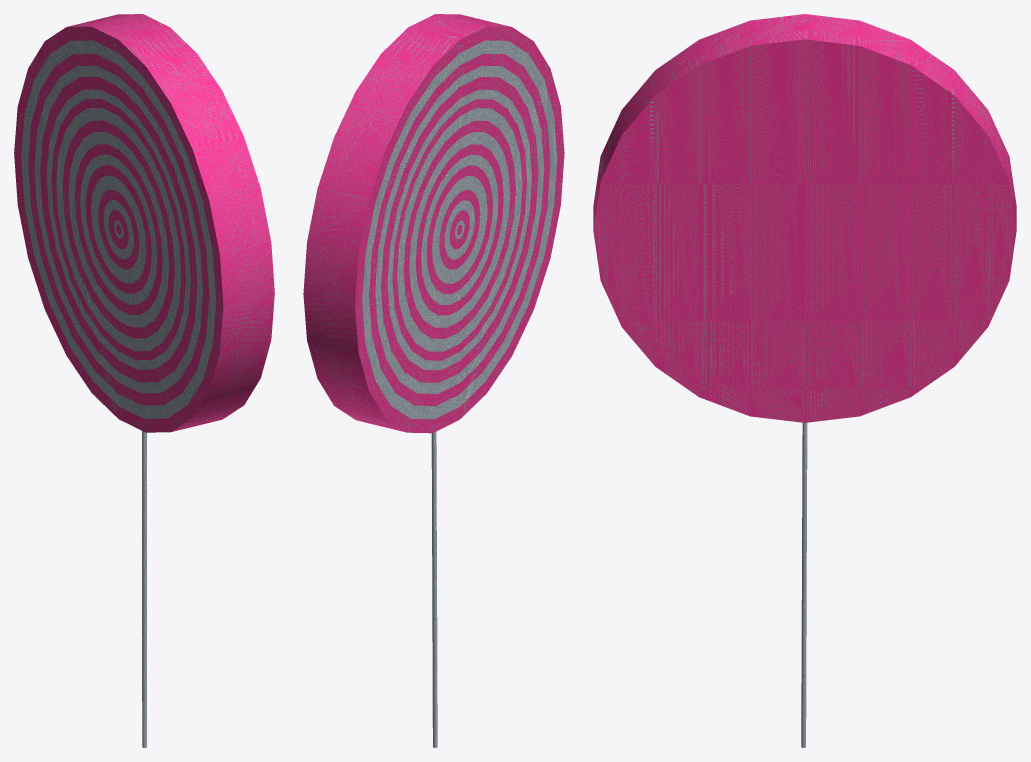
File: lollipop.fbx
The picture shows the model from 3 angles, left to right: view 1: azimuth 30°, elevation 25°; view 2: azimuth 150°, elevation 25°; view 3: azimuth 270°, elevation 25°; orthographic projection.
Visible parts, largest first — view 1: Model; view 2: Model; view 3: Model.
Part boxes in pixels (x1,y1,x2,y2): Model: [14, 14, 274, 747]; Model: [303, 14, 564, 747]; Model: [593, 14, 1016, 747].
Size of the model in its own units: 2.5 by 33.08 by 17.61.
